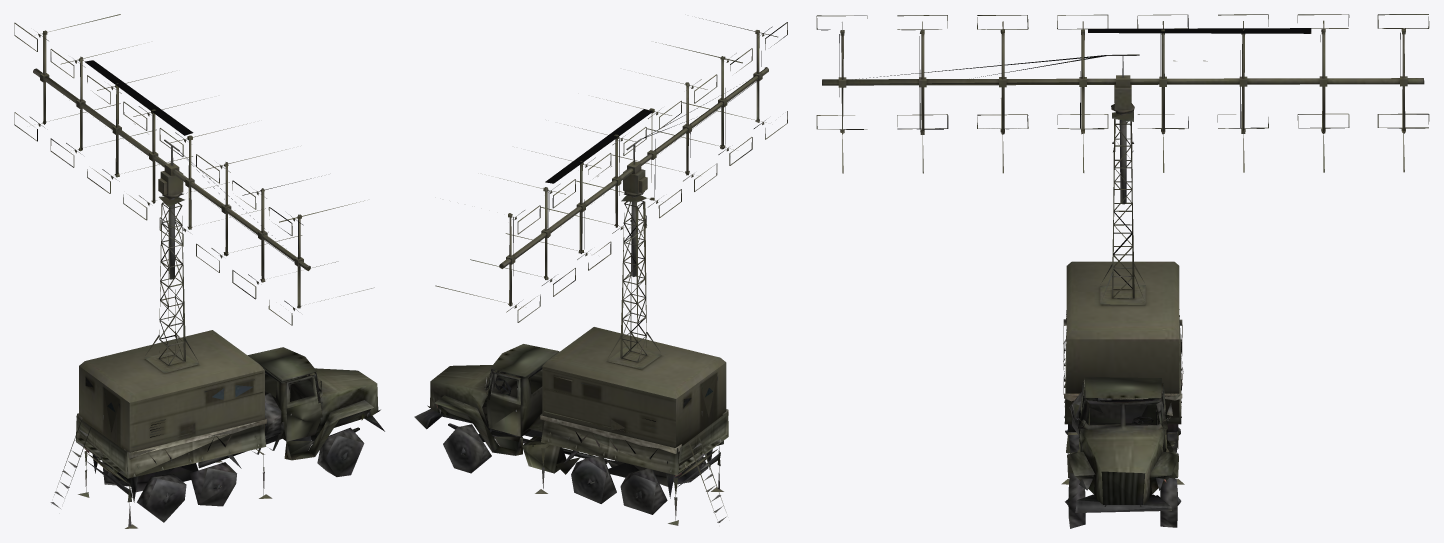
File: krasukha_lo.glb
3 views of the same model, side by side, from view 1: azimuth 30°, elevation 25°; view 2: azimuth 150°, elevation 25°; view 3: azimuth 270°, elevation 25° (orthographic). The views are drawn at different scales.
Visible parts, largest first — view 1: g_krasukha_hull, g_krasukha_turret; view 2: g_krasukha_hull, g_krasukha_turret; view 3: g_krasukha_hull, g_krasukha_turret.
Part boxes in pixels (bbox=[...]): g_krasukha_hull: bbox=[50, 193, 384, 528]; g_krasukha_turret: bbox=[14, 14, 374, 325]; g_krasukha_hull: bbox=[414, 191, 728, 525]; g_krasukha_turret: bbox=[435, 18, 787, 322]; g_krasukha_hull: bbox=[1061, 111, 1184, 528]; g_krasukha_turret: bbox=[816, 14, 1429, 204].
Size of the model in its own units: 7.37 by 8.71 by 11.48.
Materials: 2 (2 with a texture image).
